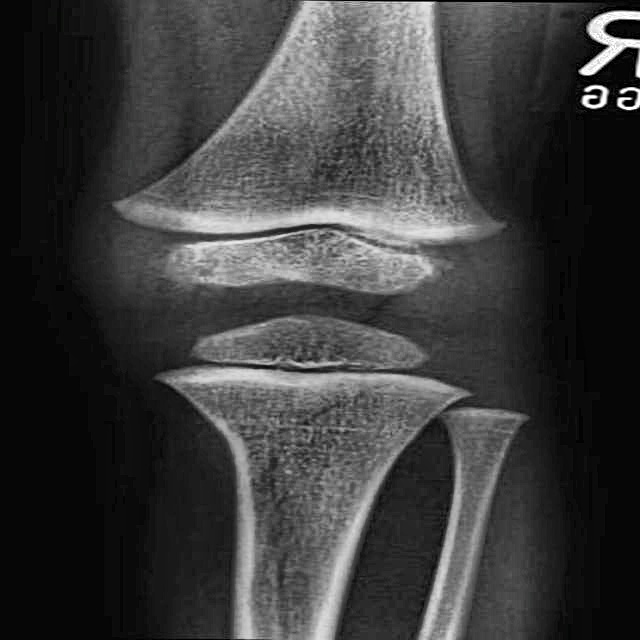Oblique Displaced: (229, 383, 395, 448)
